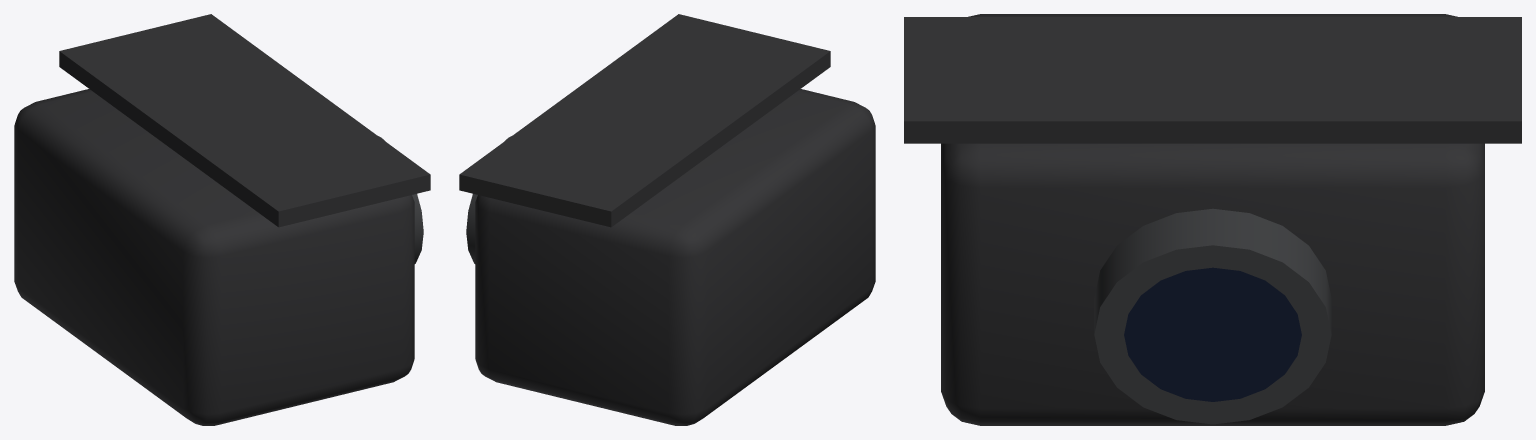
File: camera.glb
3 views of the same model, side by side, from view 1: azimuth 30°, elevation 25°; view 2: azimuth 150°, elevation 25°; view 3: azimuth 270°, elevation 25° (orthographic). The views are drawn at different scales.
Visible parts, largest first — view 1: camera; view 2: camera; view 3: camera.
Boxes of the visible parts, x1,y1,x2,y2 form: camera: (14,14,430,425); camera: (459,14,875,425); camera: (904,14,1521,425).
Size of the model in its own units: 0.111 by 0.0835 by 0.15.
